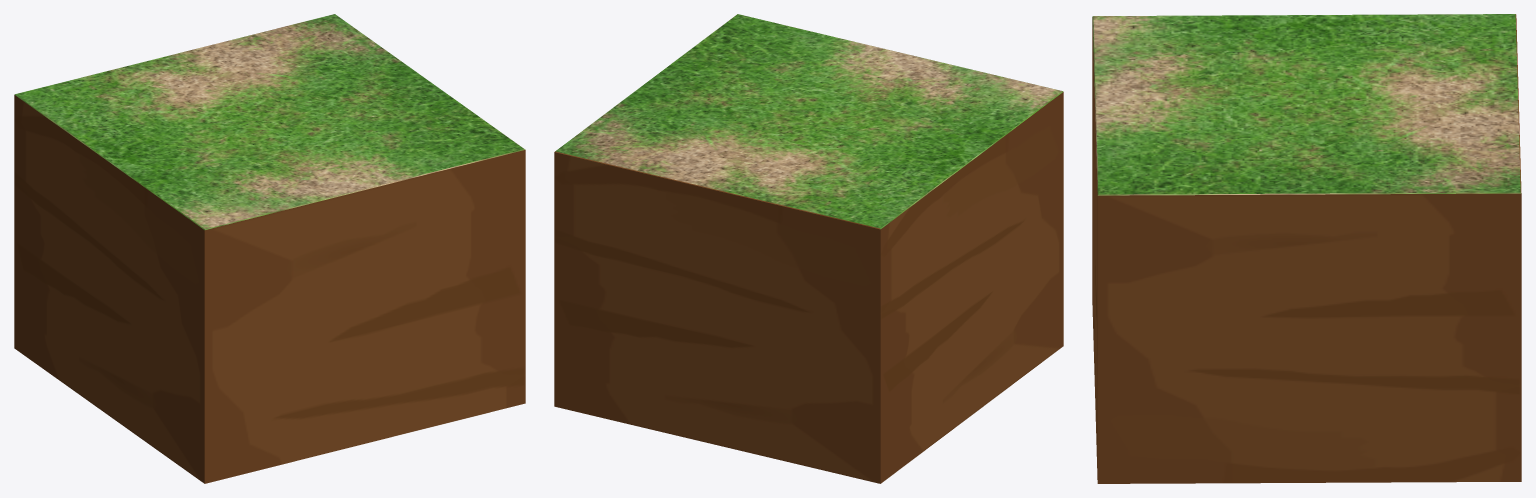
File: Main Cube2.glb
The picture shows the model from 3 angles, left to right: view 1: azimuth 30°, elevation 25°; view 2: azimuth 150°, elevation 25°; view 3: azimuth 270°, elevation 25°; orthographic projection. The views are drawn at different scales.
Visible parts, largest first — view 1: Main Cube1; view 2: Main Cube1; view 3: Main Cube1.
Part boxes in pixels (x1=…): Main Cube1: x1=14, y1=14, x2=525, y2=483; Main Cube1: x1=554, y1=14, x2=1063, y2=483; Main Cube1: x1=1092, y1=14, x2=1521, y2=483.
Bounding box in the file's own units: 1.01 × 0.7522 × 1.01.
Materials: 3 (2 with a texture image).
